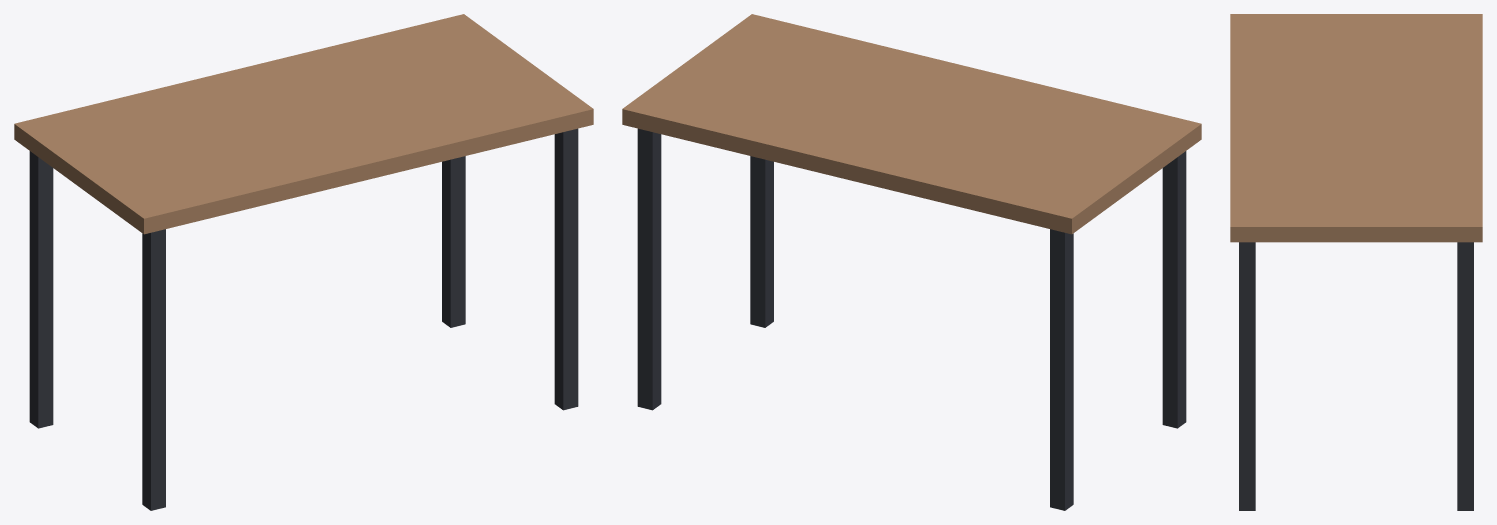
File: desk.glb
The picture shows the model from 3 angles, left to right: view 1: azimuth 30°, elevation 25°; view 2: azimuth 150°, elevation 25°; view 3: azimuth 270°, elevation 25°; orthographic projection. The views are drawn at different scales.
Parts seen in each view (by area): view 1: box (×5); view 2: box (×5); view 3: box (×3).
Boxes of the visible parts, x1=… form: box (×5): x1=14, y1=14, x2=593, y2=510; box (×5): x1=622, y1=14, x2=1201, y2=510; box (×3): x1=1230, y1=14, x2=1482, y2=510.
Size of the model in its own units: 1.2 by 0.76 by 0.6.
